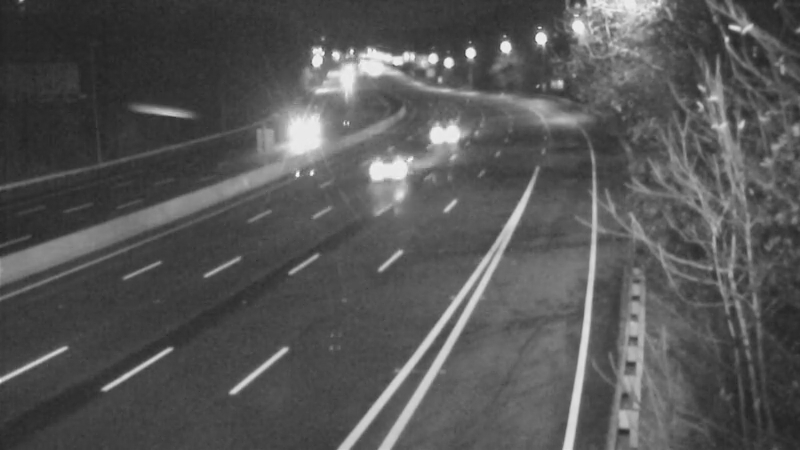vehicle: (350, 129, 430, 209), (421, 108, 471, 158), (276, 110, 326, 160)
